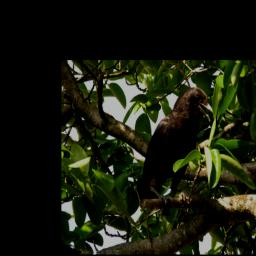Crow: (136, 84, 216, 210)
